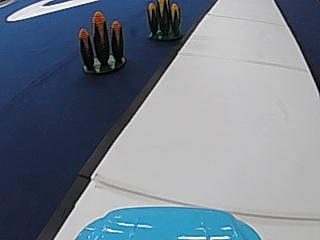corn: (78, 11, 127, 74), (145, 0, 183, 40)
